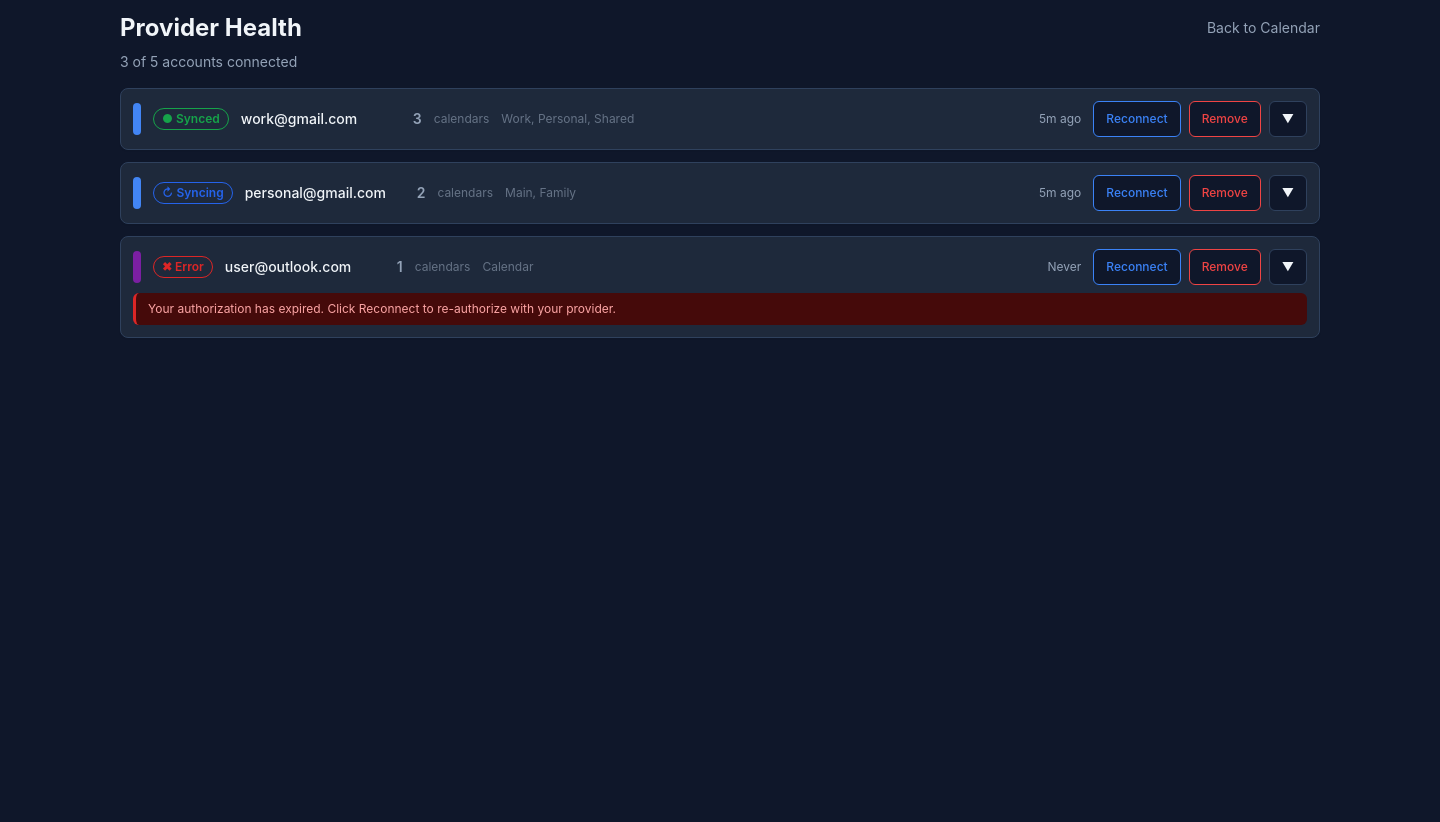
Test: ProviderHealth Dashboard › sync history › shows sync history when account is expanded
The width and height of the screenshot is (1440, 822).
Note: Expand the first account
Click the button with test id "expand-btn": click(1288, 119) [1269,101,1307,137]
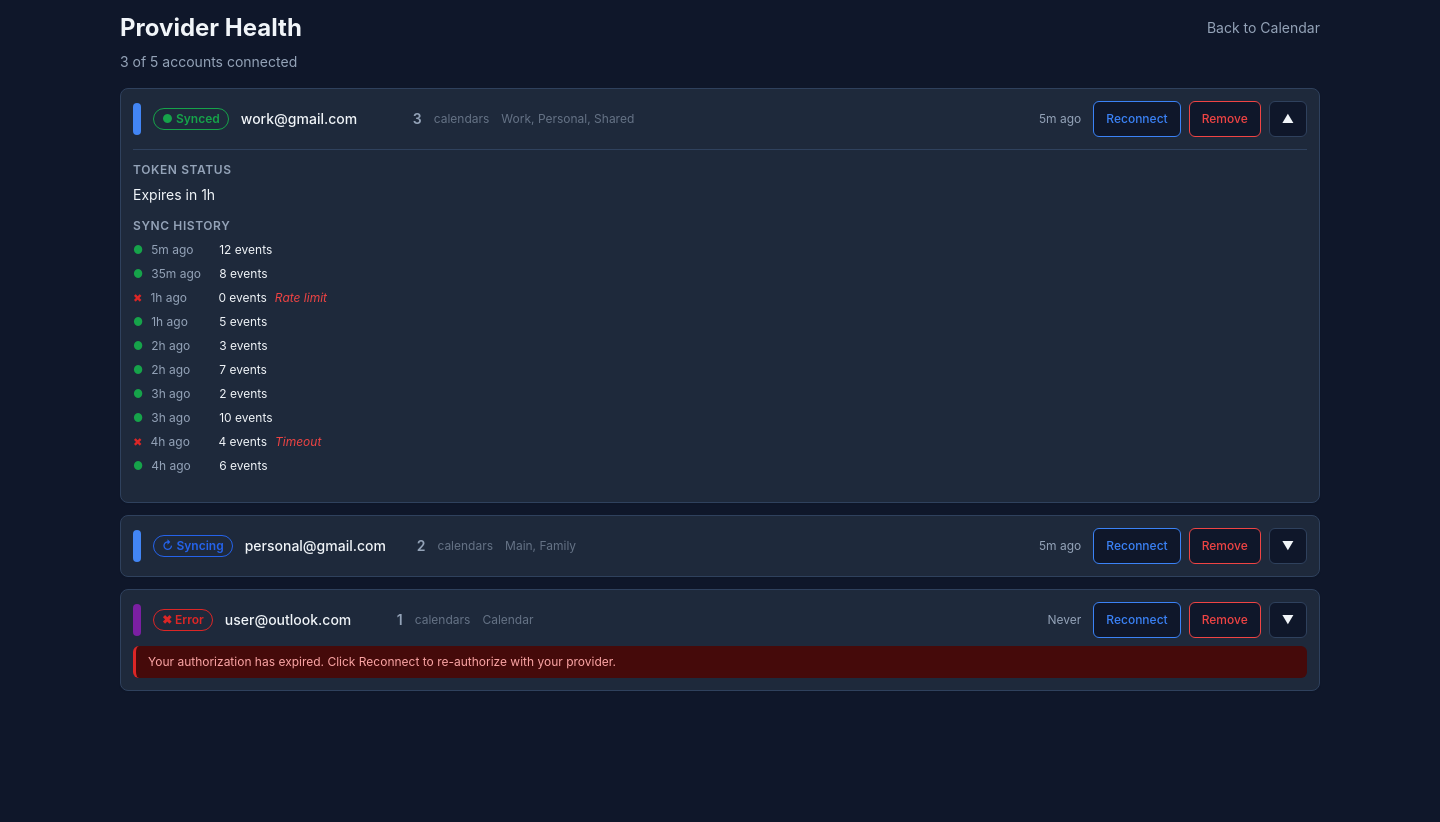
expect the element with test id "sync-history" is shown: met, box [133,242,327,473]
